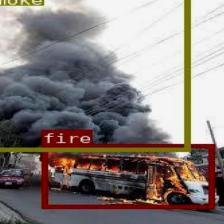fire: (41, 143, 213, 208)
smoke: (0, 0, 189, 150)
